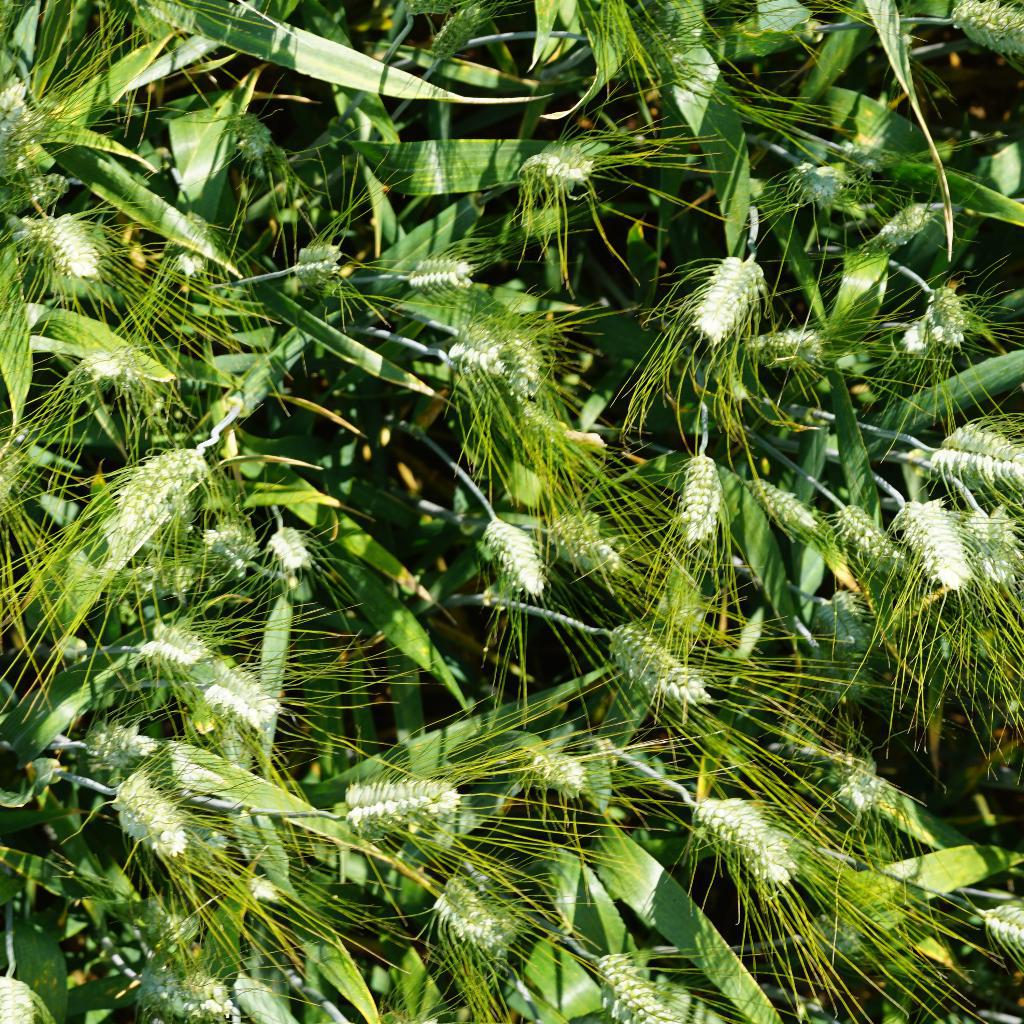0-0: (98, 441, 202, 557), (458, 364, 570, 471), (683, 787, 803, 881), (605, 620, 714, 706), (595, 948, 703, 1024), (340, 770, 470, 833), (899, 493, 975, 598), (432, 871, 524, 955), (115, 773, 204, 858), (935, 403, 1024, 486), (694, 253, 766, 344), (208, 662, 292, 739), (477, 518, 552, 602), (672, 447, 731, 552), (161, 191, 224, 288), (550, 507, 623, 586), (960, 494, 1024, 584), (799, 634, 879, 705), (754, 474, 830, 548), (903, 277, 972, 358), (83, 717, 180, 773), (838, 500, 901, 586), (40, 203, 105, 286), (754, 320, 841, 381), (128, 887, 206, 954), (806, 590, 884, 656), (110, 553, 209, 605), (452, 321, 537, 381), (833, 744, 896, 823), (870, 191, 950, 253), (153, 970, 243, 1024), (518, 740, 600, 799), (70, 328, 144, 393), (522, 141, 594, 197), (422, 0, 485, 62), (959, 0, 1024, 58), (799, 138, 852, 209), (222, 103, 280, 167), (0, 169, 63, 227), (0, 72, 36, 173), (823, 129, 896, 178), (139, 620, 213, 668), (404, 254, 486, 295), (206, 522, 260, 582), (281, 234, 346, 279), (261, 520, 317, 572), (220, 869, 288, 908), (978, 901, 1024, 947)
